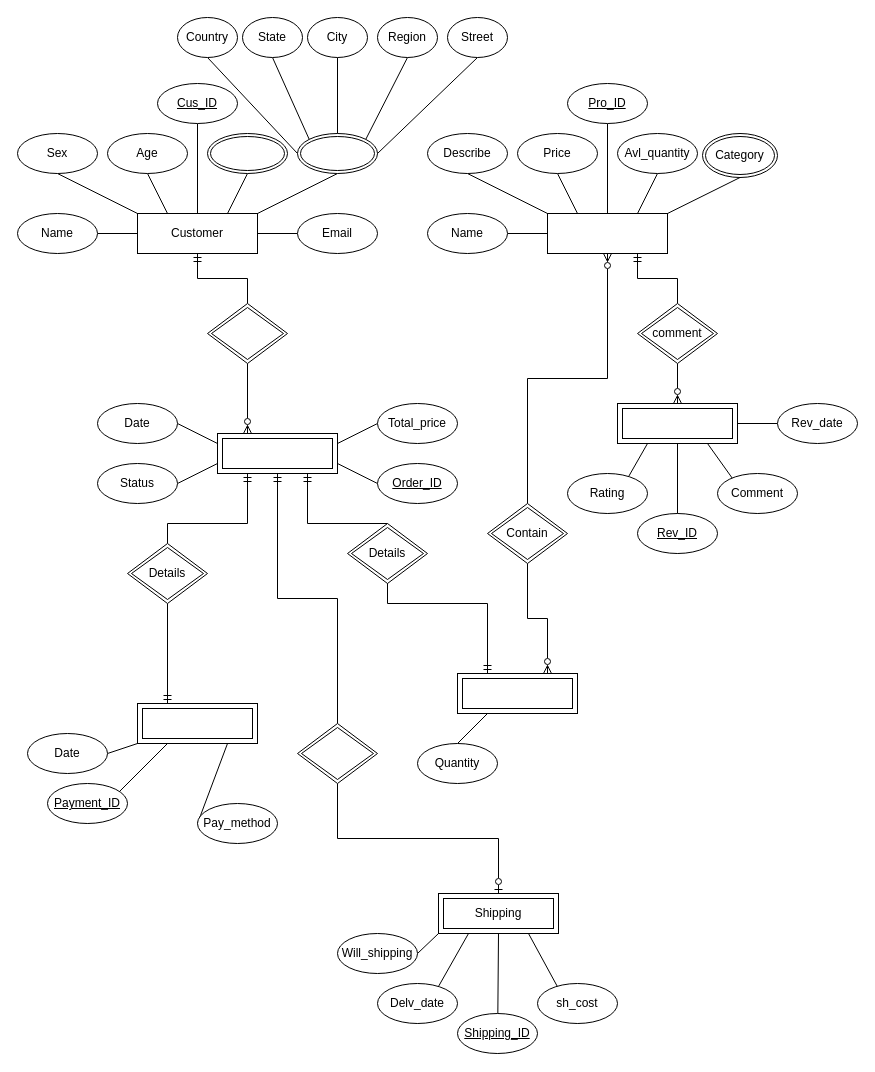
Some shapes in this 875 by 1072 pixel diagram are drawn without their labels. The shapes that lost their labels are listed below. From the top down, each one's box as (x1, y1, x2, y2) in pixels, then its label:
(206, 132, 288, 174): Phone
(296, 132, 378, 174): Location
(546, 212, 668, 254): Product
(206, 302, 288, 364): Do
(616, 402, 738, 444): Revew
(216, 432, 338, 474): Order
(456, 672, 578, 714): Order_Details
(136, 702, 258, 744): Payment
(296, 722, 378, 784): Get
